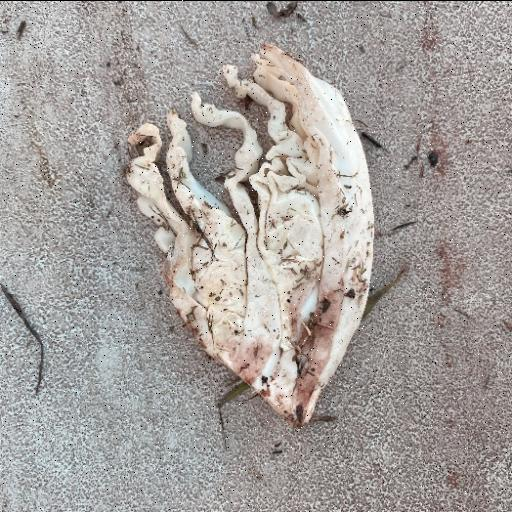Waste: (123, 42, 376, 429)
